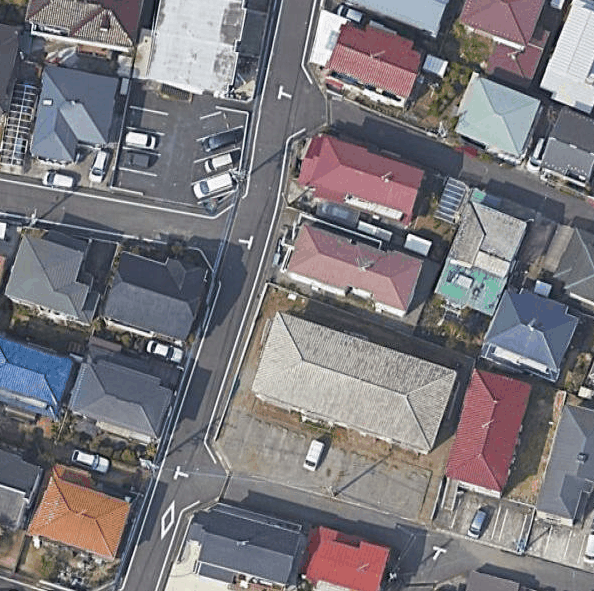flatroof: (133, 0, 270, 102)
parkinglot: (111, 83, 261, 216)
